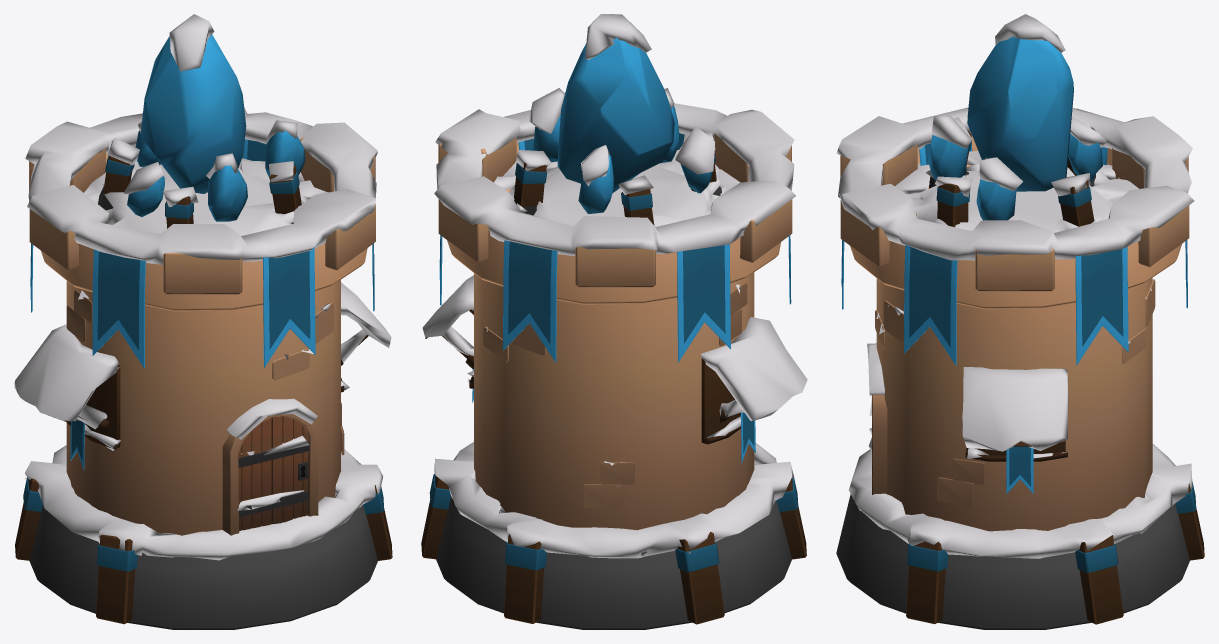
File: TowerWatchSnowy_9.fbx
The picture shows the model from 3 angles, left to right: view 1: azimuth 30°, elevation 25°; view 2: azimuth 150°, elevation 25°; view 3: azimuth 270°, elevation 25°; orthographic projection. The views are drawn at different scales.
Visible parts, largest first — view 1: TowerWatchSnowy_9, Cristal_1.003, Cristal_1.005; view 2: TowerWatchSnowy_9, Cristal_1.003, Cristal_1.005; view 3: TowerWatchSnowy_9, Cristal_1.003, Cristal_1.005.
Boxes of the visible parts, left/top/right/bottom form: TowerWatchSnowy_9: left=14, top=107, right=392, bottom=629; Cristal_1.003: left=127, top=34, right=305, bottom=221; Cristal_1.005: left=123, top=14, right=297, bottom=194; TowerWatchSnowy_9: left=421, top=103, right=807, bottom=629; Cristal_1.003: left=533, top=38, right=713, bottom=214; Cristal_1.005: left=529, top=14, right=715, bottom=186; TowerWatchSnowy_9: left=836, top=107, right=1204, bottom=629; Cristal_1.003: left=928, top=36, right=1102, bottom=220; Cristal_1.005: left=931, top=14, right=1106, bottom=191.
Size of the model in its own units: 313 by 455 by 284.
